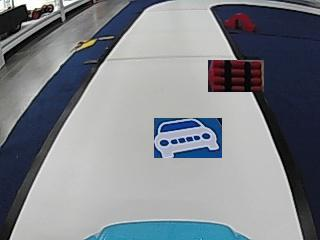bridge: (225, 12, 255, 31)
